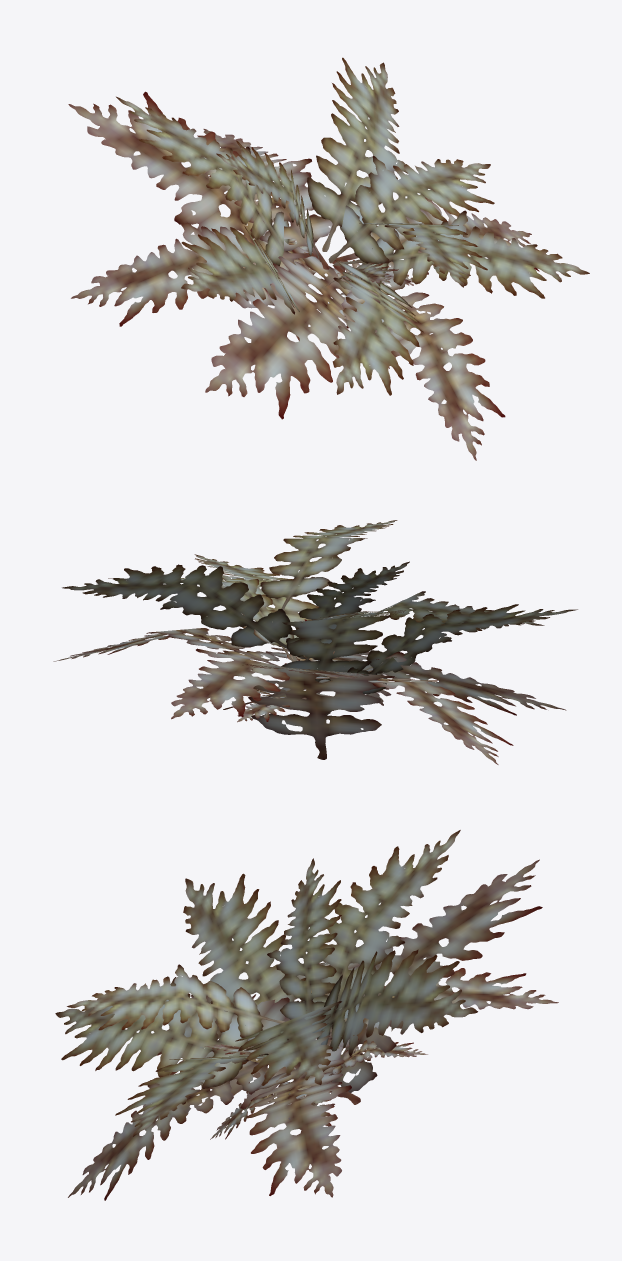
File: rzjd_gress_01.FBX
3 views of the same model, one above another, from view 1: azimuth 30°, elevation 25°; view 2: azimuth 150°, elevation 25°; view 3: azimuth 270°, elevation 25° (orthographic). The views are drawn at different scales.
Visible parts, largest first — view 1: rzjd_gress_01; view 2: rzjd_gress_01; view 3: rzjd_gress_01.
Boxes of the visible parts, bbox=[...] form: rzjd_gress_01: bbox=[68, 57, 589, 460]; rzjd_gress_01: bbox=[53, 520, 577, 764]; rzjd_gress_01: bbox=[55, 830, 558, 1200].
Bounding box in the file's own units: 275 × 285 × 160.
